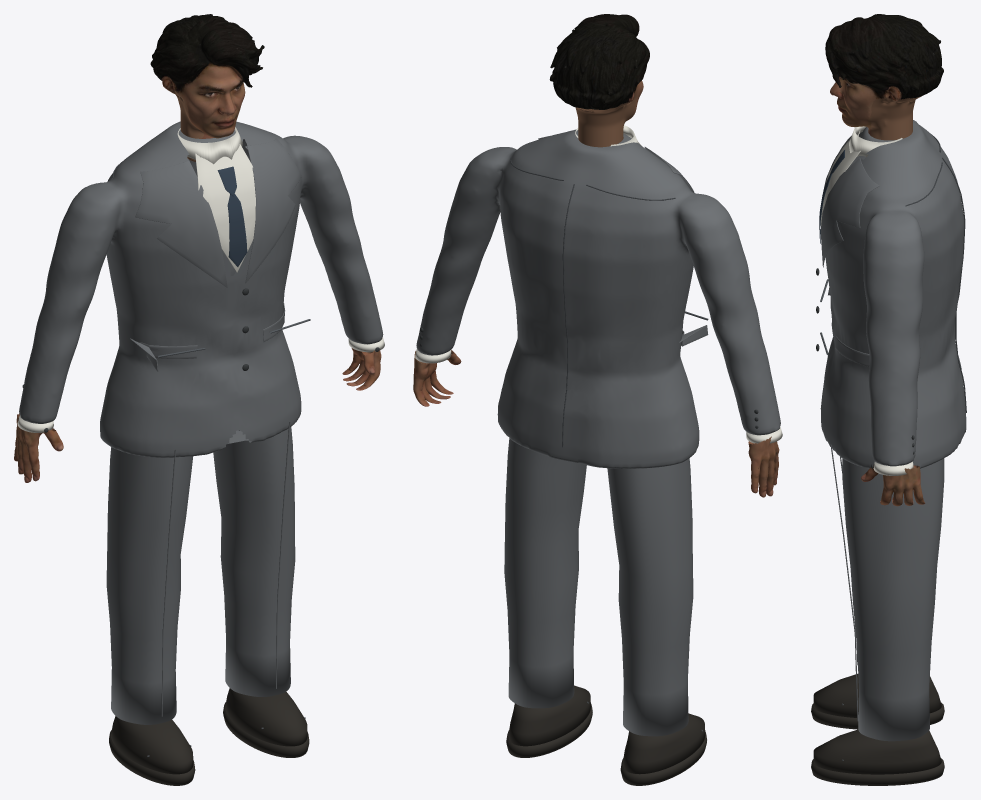
Rendered from CampusTeacher.fbx.
3 views of the same model, side by side, from view 1: azimuth 30°, elevation 25°; view 2: azimuth 150°, elevation 25°; view 3: azimuth 270°, elevation 25° (orthographic).
Visible parts, largest first — view 1: CampusTeacher; view 2: CampusTeacher; view 3: CampusTeacher.
Part boxes in pixels (x1,y1,x2,y2): CampusTeacher: [14, 14, 384, 785]; CampusTeacher: [413, 14, 782, 785]; CampusTeacher: [811, 14, 966, 785].
Size of the model in its own units: 86 by 165 by 32.08.
8 materials, 1 textured.
